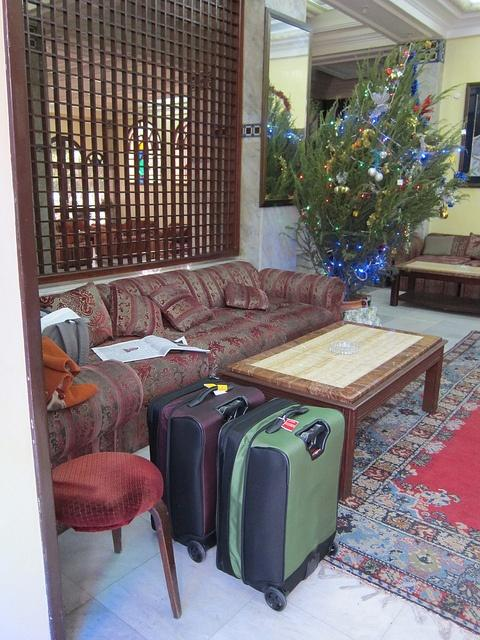Meja: (219, 318, 449, 424)
